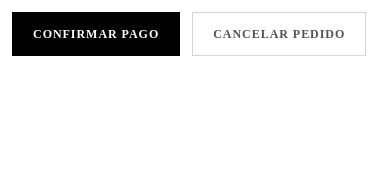
Scenario: OrderStatusActions › explains the INVALID_TRANSITION failure
Click the button "Confirmar pago": (96, 34) [12, 12, 180, 56]
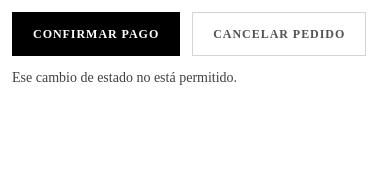
expect the message reads "Ese cambio de estado no está permitido.": met, box [12, 70, 237, 85]
